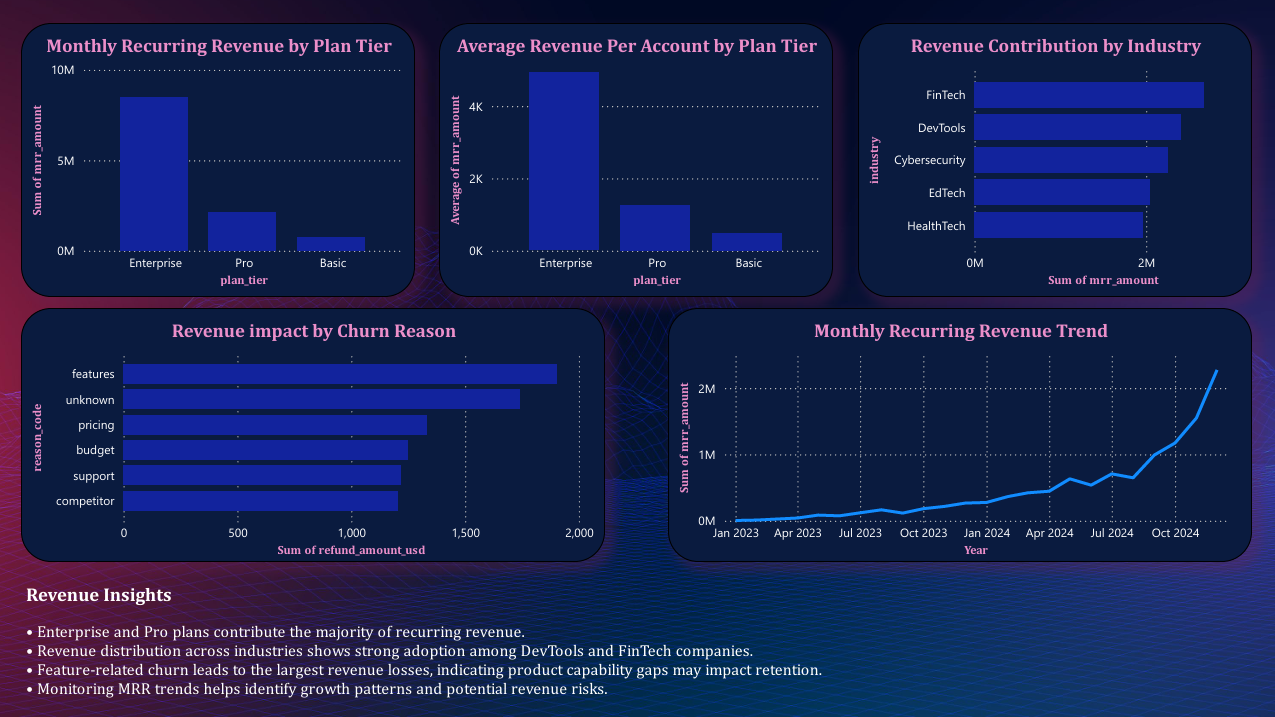

The page's visual inventory and layout, read from the dashboard file:
{"tool":"powerbi","page":{"name":"Revenue Intelligence","canvas":[1280,720],"ordinal":2},"visuals":[{"type":"clusteredColumnChart","title":"Monthly Recurring Revenue by Plan Tier","fields":{"Category":["ravenstack_analytics subscriptions.plan_tier"],"Y":["Sum(ravenstack_analytics subscriptions.mrr_amount)"]},"box":[22.3,70,394.3,260.3],"z":0},{"type":"clusteredColumnChart","title":"Average Revenue Per Account by Plan Tier","fields":{"Category":["ravenstack_analytics subscriptions.plan_tier"],"Y":["Avg(ravenstack_analytics subscriptions.mrr_amount)"]},"box":[441.7,70,393,260.3],"z":1000},{"type":"barChart","title":"Revenue Contribution by Industry","fields":{"Category":["ravenstack_analytics accounts.industry"],"Y":["Sum(ravenstack_analytics subscriptions.mrr_amount)"]},"box":[859.6,70,394.3,260.3],"z":2000},{"type":"barChart","title":"Revenue impact by Churn Reason","fields":{"Category":["ravenstack_analytics churn_events.reason_code"],"Y":["Sum(ravenstack_analytics churn_events.refund_amount_usd)"]},"box":[22.3,335.5,583.6,237.9],"z":3000},{"type":"lineChart","title":"Monthly Recurring Revenue  Trend","fields":{"Y":["Sum(ravenstack_analytics subscriptions.mrr_amount)"],"Category":["ravenstack_analytics subscriptions.start_date.Variation.Date Hierarchy.Year","ravenstack_analytics subscriptions.start_date.Variation.Date Hierarchy.Month"]},"box":[670.4,335.5,583.6,237.9],"z":4000},{"type":"textbox","box":[23.3,576.7,1230.7,135],"z":5000},{"type":"textbox","box":[24.1,13.9,1219.5,58.3],"z":6000}]}

Visuals, with their boxes in screenshot pixels (x1, y1, x2, y2), scaled from the page's 1280x720 canvas onto the 1275x717 screenshot:
"Monthly Recurring Revenue by Plan Tier" clusteredColumnChart: region(22, 70, 415, 329)
"Average Revenue Per Account by Plan Tier" clusteredColumnChart: region(440, 70, 831, 329)
"Revenue Contribution by Industry" barChart: region(856, 70, 1249, 329)
"Revenue impact by Churn Reason" barChart: region(22, 334, 604, 571)
"Monthly Recurring Revenue  Trend" lineChart: region(668, 334, 1249, 571)
textbox: region(23, 574, 1249, 709)
textbox: region(24, 14, 1239, 72)
